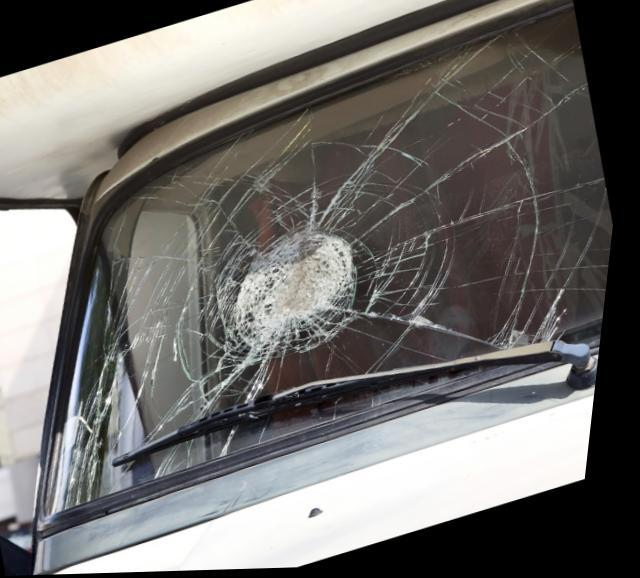glass shatter: (61, 6, 619, 517)
